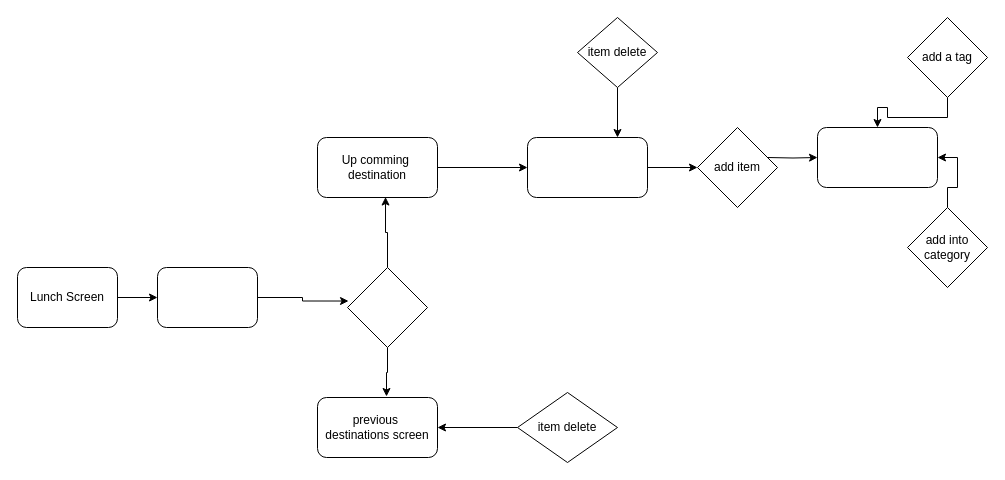
The diagram is 1005 pixels wide and 480 high, and some of its shapes have lost their labels. The shapes that lost their labels are listed below. From the top down, each one's centre as x and y in pixels, then its label:
At (587,167): "Packing list".
At (877,157): "add item screen".
At (207,297): "welcome Screen".
At (387,307): "tap bar view".
